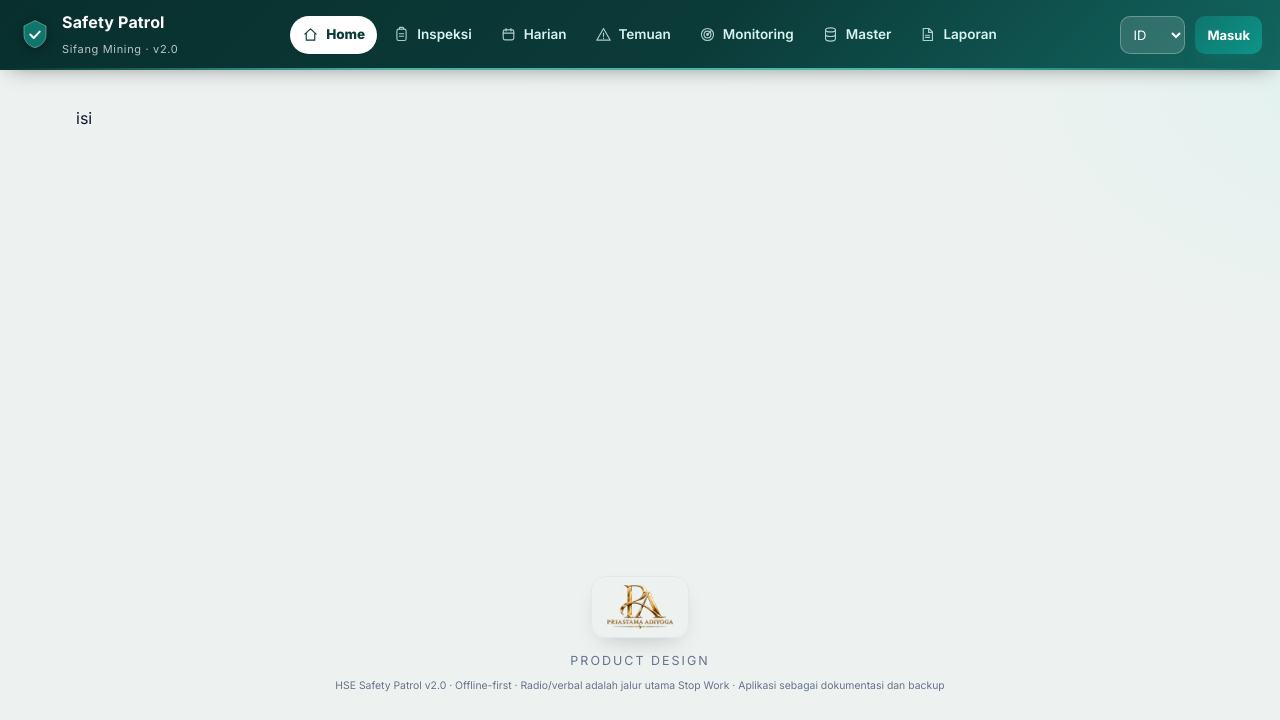
Test: Layout › ganti bahasa tersedia
Check: the link "Inspeksi" is shown, box [393, 26, 472, 43]
Select "EN" in the dropdown named "Bahasa" at [1153, 35], box [1120, 16, 1185, 54]
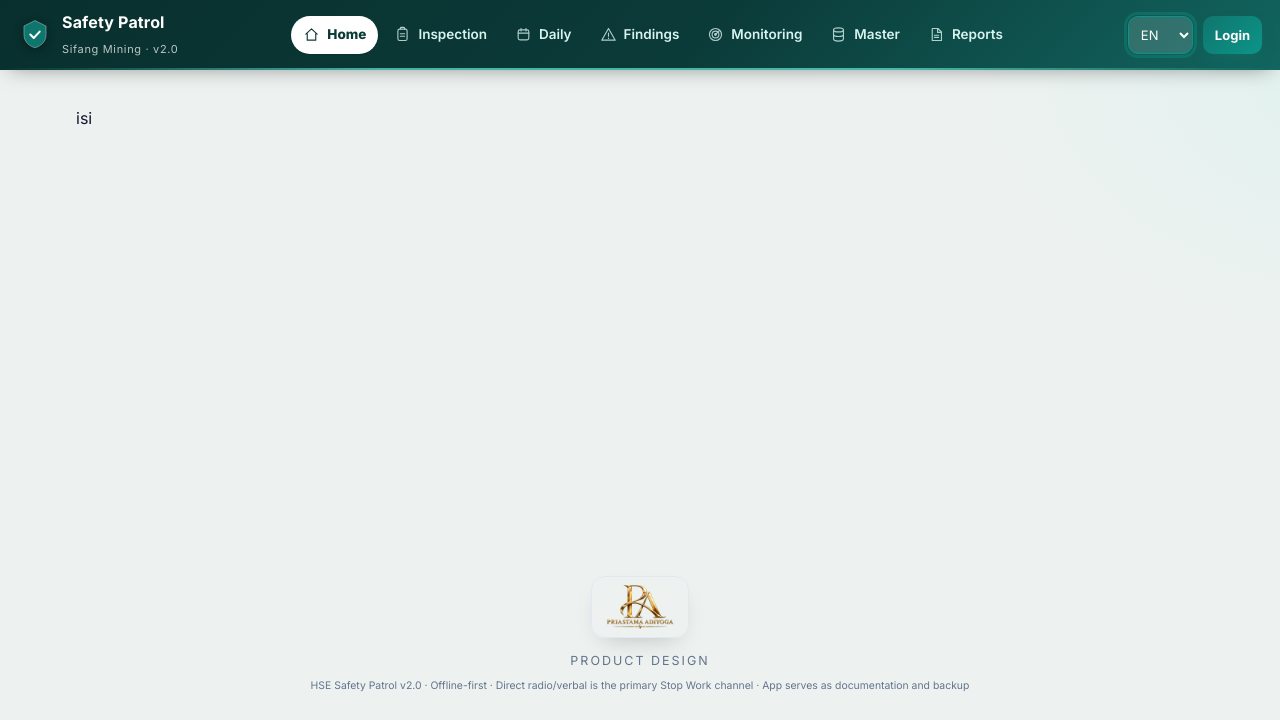
Check: the link "Inspection" is shown, box [394, 26, 487, 43]
Check: the link "Inspeksi" is gone
Select "ID" in the dropdown named "Bahasa" at [1160, 35], box [1128, 16, 1193, 54]
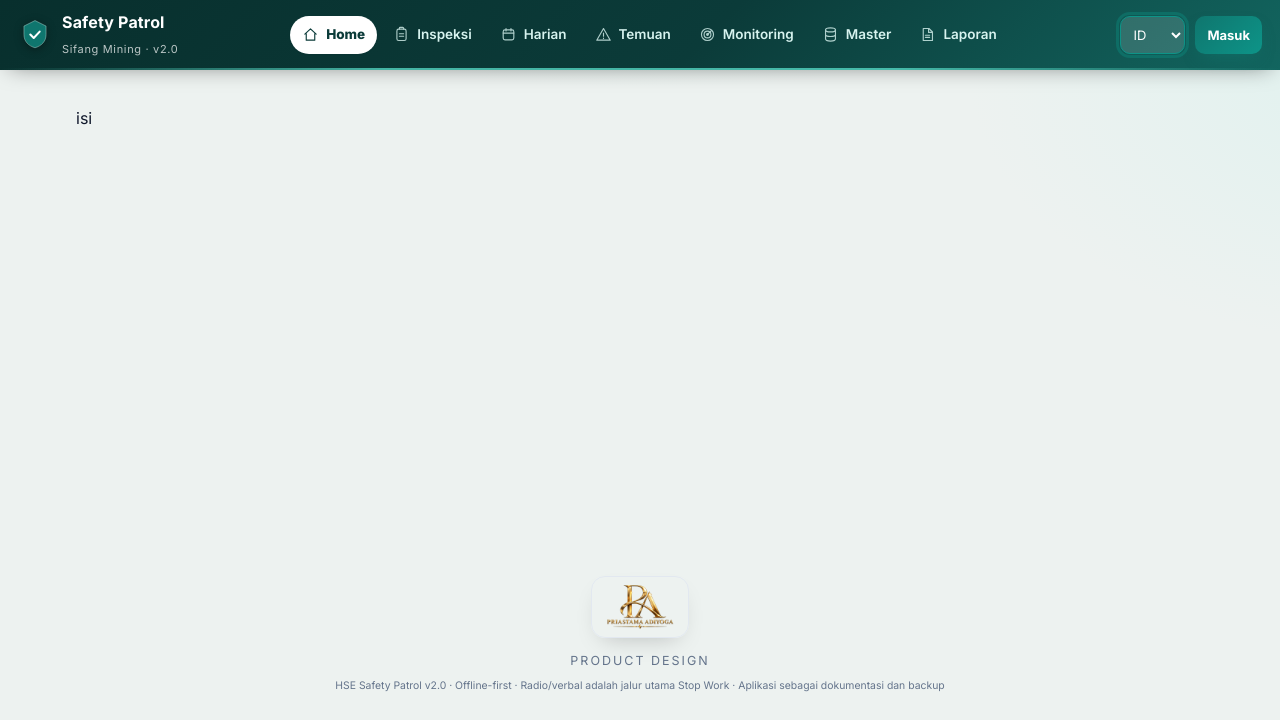
Check: the link "Inspeksi" is shown, box [393, 26, 472, 43]
